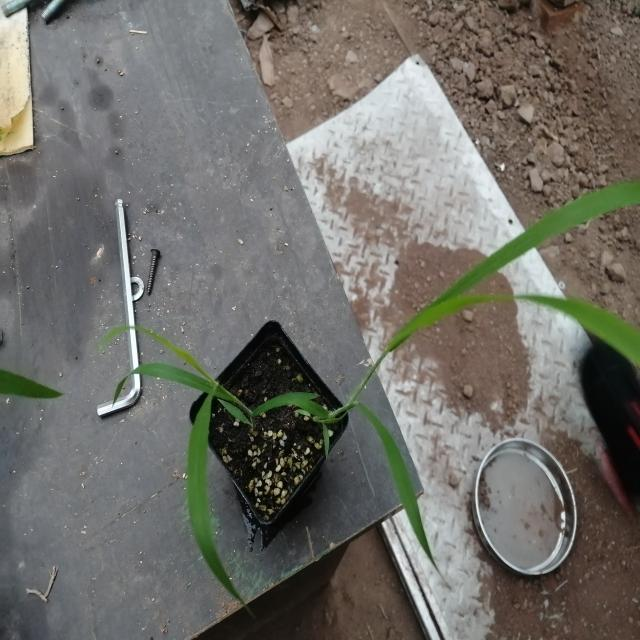crabgrass: (342, 190, 639, 515), (100, 319, 278, 603)
